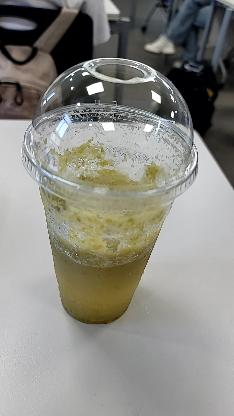Plastic Cup: (21, 55, 201, 324), (22, 58, 202, 214)
